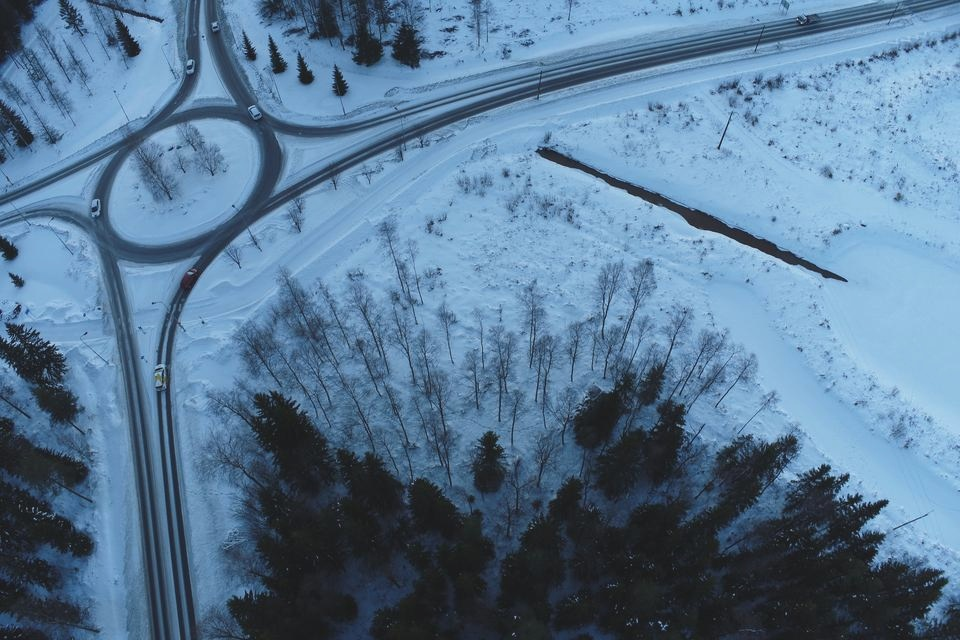roundabout: (71, 84, 304, 287)
